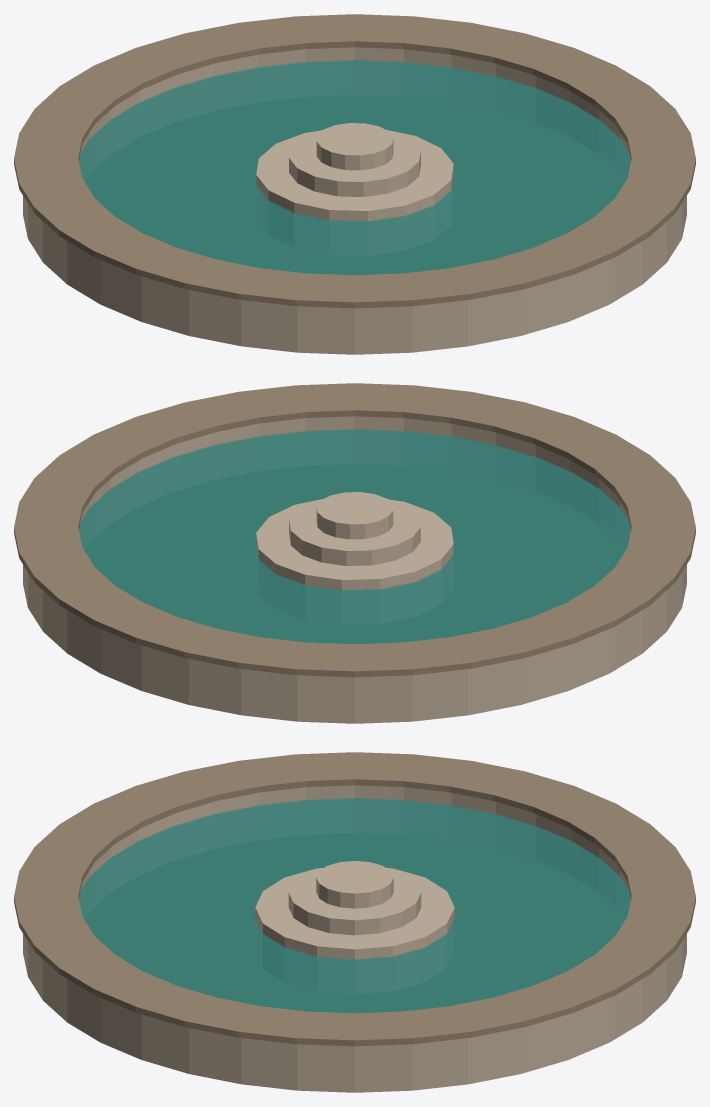
File: city_fountain.glb
The picture shows the model from 3 angles, top to bottom: view 1: azimuth 30°, elevation 25°; view 2: azimuth 150°, elevation 25°; view 3: azimuth 270°, elevation 25°; orthographic projection.
Visible parts, largest first — view 1: CityFountain_Water, CityFountain_RimCap, CityFountain_Rim, CityFountain_Floor, CityFountain_Centre0, CityFountain_Centre1, CityFountain_Centre2; view 2: CityFountain_Water, CityFountain_RimCap, CityFountain_Rim, CityFountain_Floor, CityFountain_Centre0, CityFountain_Centre1, CityFountain_Centre2; view 3: CityFountain_Water, CityFountain_RimCap, CityFountain_Rim, CityFountain_Floor, CityFountain_Centre0, CityFountain_Centre1, CityFountain_Centre2.
Boxes of the visible parts, box(x1,y1,x2,y2) form: CityFountain_Water: box(79, 60, 630, 275); CityFountain_RimCap: box(14, 14, 695, 308); CityFountain_Rim: box(23, 47, 686, 354); CityFountain_Floor: box(85, 95, 624, 274); CityFountain_Centre0: box(256, 129, 453, 255); CityFountain_Centre1: box(289, 129, 420, 196); CityFountain_Centre2: box(316, 123, 393, 170); CityFountain_Water: box(79, 429, 630, 644); CityFountain_RimCap: box(14, 383, 695, 677); CityFountain_Rim: box(23, 416, 686, 723); CityFountain_Floor: box(85, 464, 624, 643); CityFountain_Centre0: box(256, 498, 453, 624); CityFountain_Centre1: box(289, 498, 420, 565); CityFountain_Centre2: box(316, 492, 393, 539); CityFountain_Water: box(79, 798, 630, 1013); CityFountain_RimCap: box(14, 752, 695, 1046); CityFountain_Rim: box(23, 785, 686, 1092); CityFountain_Floor: box(85, 833, 624, 1012); CityFountain_Centre0: box(255, 868, 454, 993); CityFountain_Centre1: box(288, 868, 421, 935); CityFountain_Centre2: box(316, 861, 393, 908).
Bounding box in the file's own units: 6.16 × 0.85 × 6.16.
